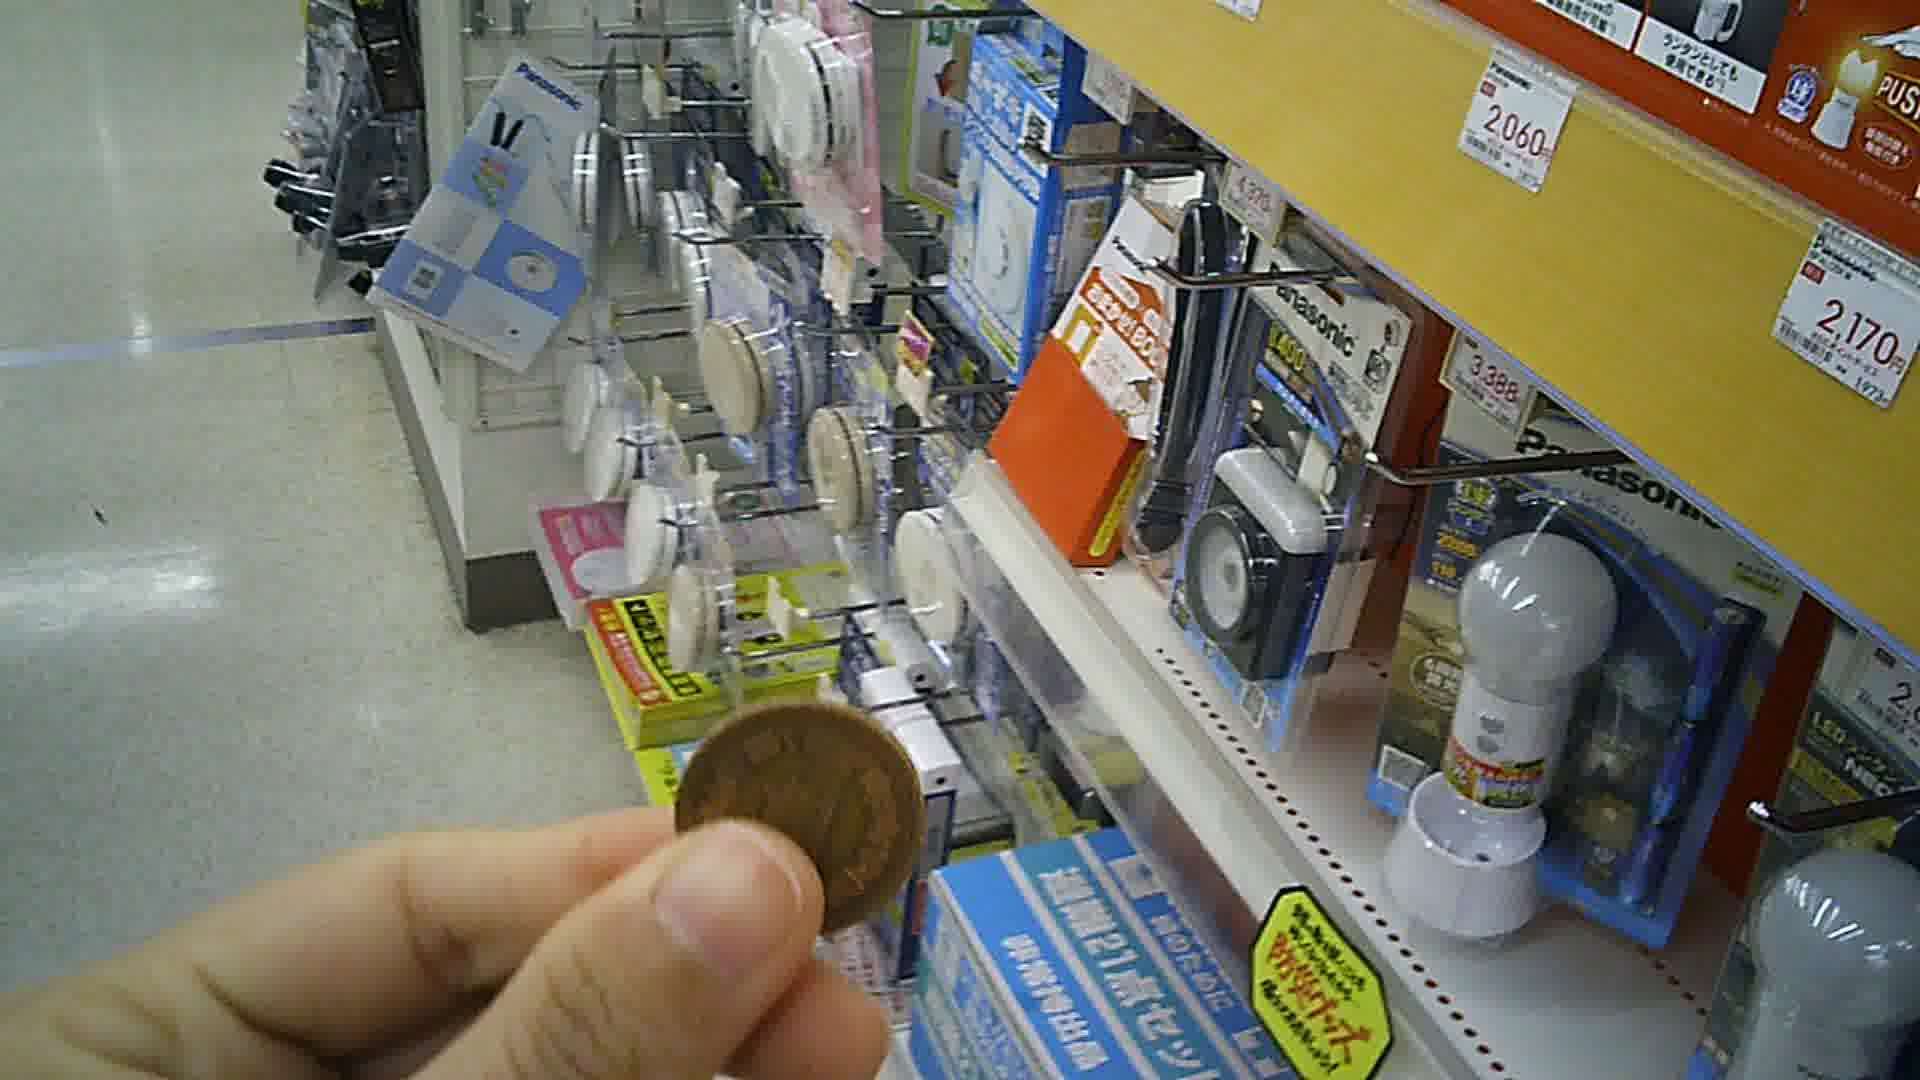10 Yen: (673, 684, 934, 940)
